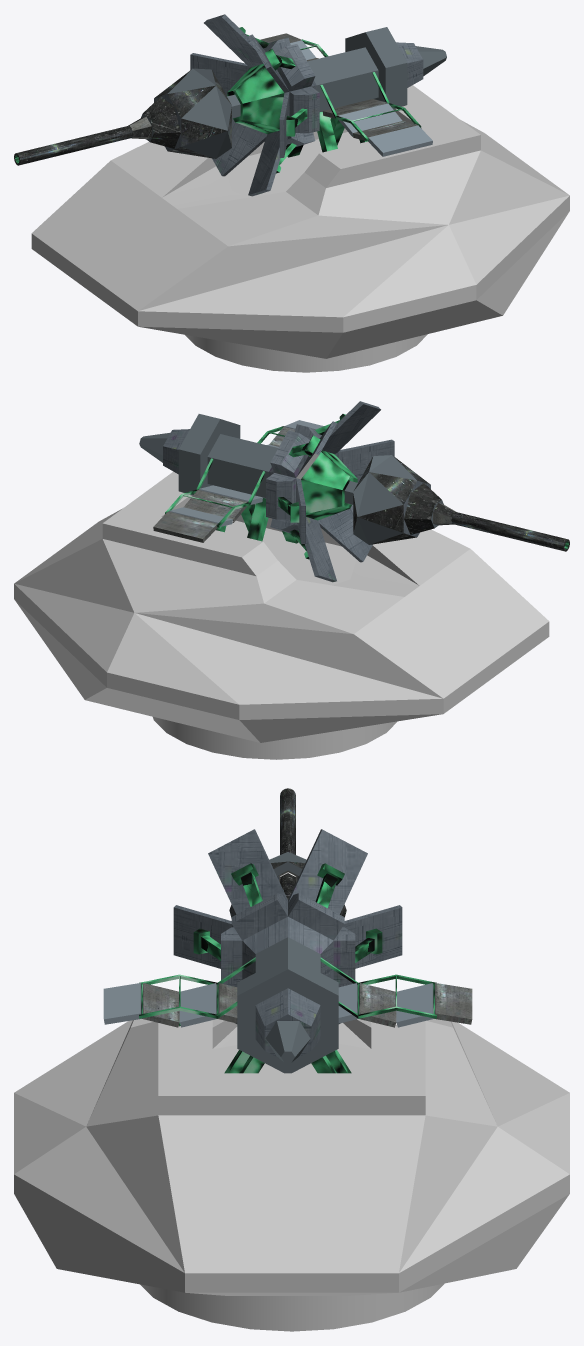
Rendered from 光棱prism[武器]贴图版.fbx.
The picture shows the model from 3 angles, top to bottom: view 1: azimuth 30°, elevation 25°; view 2: azimuth 150°, elevation 25°; view 3: azimuth 270°, elevation 25°; orthographic projection. The views are drawn at different scales.
Visible parts, largest first — view 1: Group1, Group2, Group28, Group23, Group9, Group21, Group22, Group24; view 2: Group1, Group2, Group28, Group14, Group9, Group12, Group13, Group15; view 3: Group1, Group2, Group28, Group23, Group14, Group15, Group12, Group21, Group24, Group17, Group25.
Part boxes in pixels (x1=…): Group1: x1=31, y1=85, x2=569, y2=358; Group2: x1=14, y1=14, x2=446, y2=196; Group28: x1=185, y1=334, x2=427, y2=372; Group23: x1=368, y1=125, x2=432, y2=156; Group9: x1=143, y1=96, x2=180, y2=148; Group21: x1=338, y1=103, x2=402, y2=136; Group22: x1=322, y1=99, x2=387, y2=118; Group24: x1=353, y1=121, x2=417, y2=140; Group1: x1=14, y1=471, x2=549, y2=742; Group2: x1=139, y1=401, x2=569, y2=582; Group28: x1=153, y1=717, x2=397, y2=759; Group14: x1=153, y1=511, x2=217, y2=542; Group9: x1=404, y1=483, x2=441, y2=534; Group12: x1=183, y1=490, x2=247, y2=522; Group13: x1=199, y1=485, x2=262, y2=504; Group15: x1=169, y1=507, x2=232, y2=526; Group1: x1=14, y1=1019, x2=569, y2=1295; Group2: x1=173, y1=788, x2=402, y2=1073; Group28: x1=140, y1=1283, x2=444, y2=1331; Group23: x1=103, y1=983, x2=141, y2=1024; Group14: x1=434, y1=983, x2=472, y2=1024; Group15: x1=396, y1=983, x2=434, y2=1027; Group12: x1=359, y1=983, x2=396, y2=1027; Group21: x1=179, y1=983, x2=216, y2=1027; Group24: x1=142, y1=983, x2=179, y2=1027; Group17: x1=139, y1=974, x2=218, y2=1018; Group25: x1=357, y1=974, x2=436, y2=1018.
Bounding box in the file's own units: 3.47 × 2.02 × 2.6.
